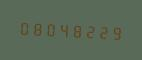eight: (30, 17, 42, 38), (69, 19, 81, 40)
four: (56, 19, 68, 39)
nine: (108, 21, 120, 42)
two: (82, 20, 94, 41), (95, 21, 107, 41)
zero: (43, 18, 55, 39), (17, 17, 29, 37)
